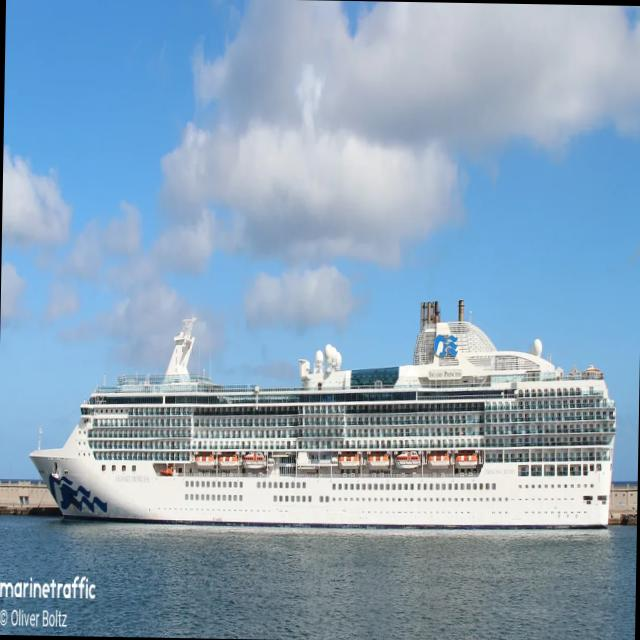Cruise: (29, 300, 617, 527)
